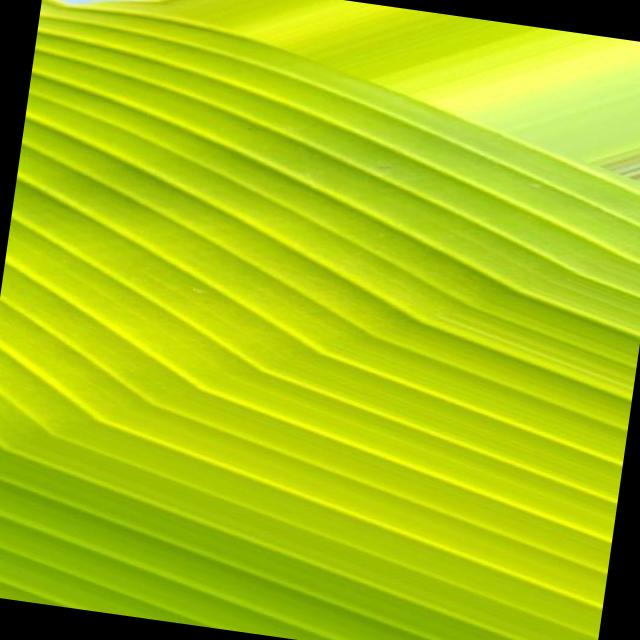Banana_Healthy: (82, 144, 548, 571)
